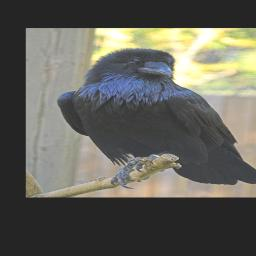Crow: (56, 47, 256, 189)
